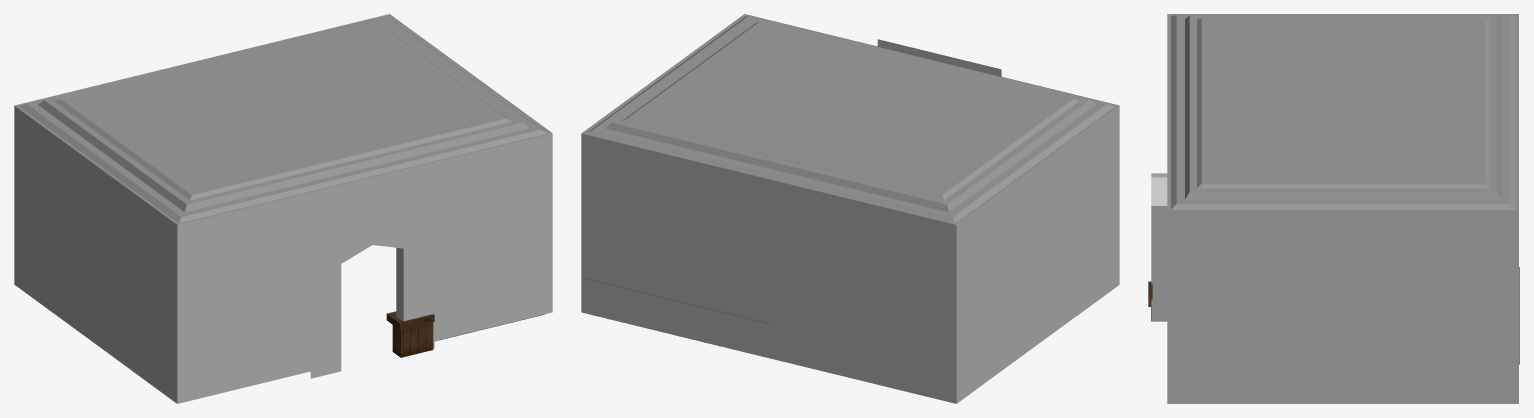
File: room_Large.FBX
The picture shows the model from 3 angles, left to right: view 1: azimuth 30°, elevation 25°; view 2: azimuth 150°, elevation 25°; view 3: azimuth 270°, elevation 25°; orthographic projection. The views are drawn at different scales.
Visible parts, largest first — view 1: Box001, Object002, woodenWall; view 2: Box001, Object002; view 3: Box001, Object002.
Boxes of the visible parts, x1=… form: Box001: x1=14, y1=14, x2=552, y2=403; Object002: x1=15, y1=14, x2=551, y2=224; woodenWall: x1=386, y1=311, x2=544, y2=357; Box001: x1=581, y1=14, x2=1119, y2=403; Object002: x1=581, y1=14, x2=1118, y2=224; Box001: x1=1151, y1=14, x2=1518, y2=403; Object002: x1=1167, y1=14, x2=1518, y2=211.
Bounding box in the file's own units: 1201 × 583 × 954.
